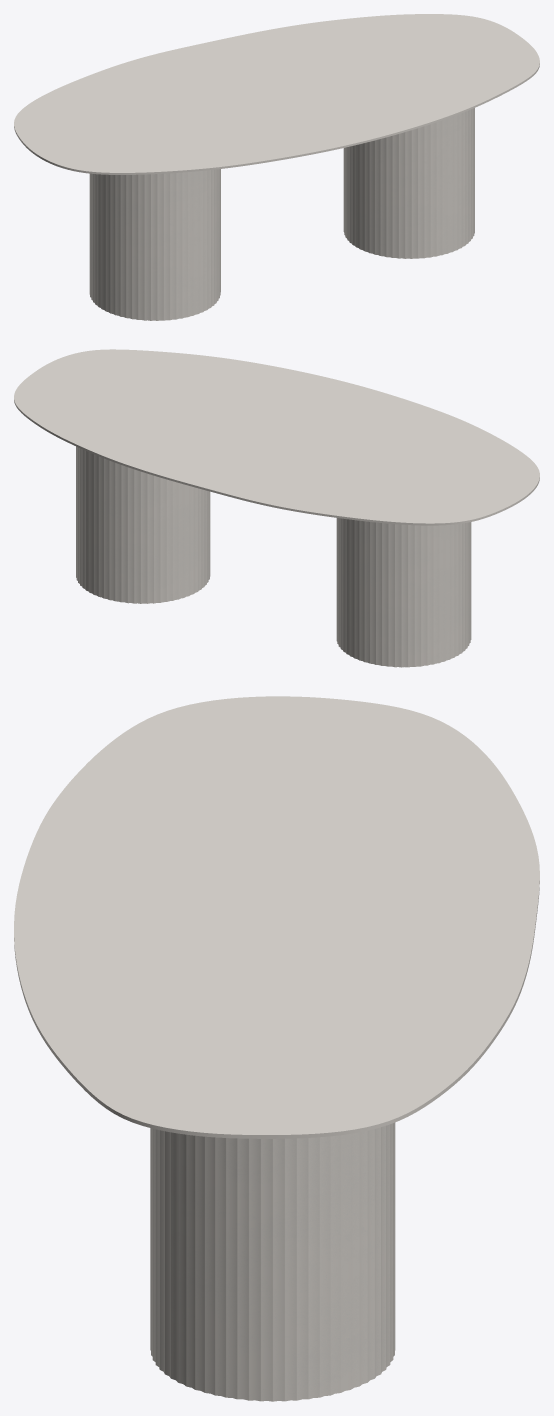
Rendered from pearlwhite_danish_facet_ripplesecond.glb.
3 views of the same model, one above another, from view 1: azimuth 30°, elevation 25°; view 2: azimuth 150°, elevation 25°; view 3: azimuth 270°, elevation 25° (orthographic). The views are drawn at different scales.
Visible parts, largest first — view 1: facet_danish, ripplesecond; view 2: facet_danish, ripplesecond; view 3: facet_danish, ripplesecond.
Boxes of the visible parts, bbox=[...] form: facet_danish: bbox=[14, 14, 539, 174]; ripplesecond: bbox=[89, 108, 474, 320]; facet_danish: bbox=[14, 349, 539, 525]; ripplesecond: bbox=[76, 446, 471, 667]; facet_danish: bbox=[14, 696, 539, 1138]; ripplesecond: bbox=[150, 1122, 395, 1401].
Size of the model in its own units: 7.5 by 2.51 by 3.8.
1 material, 1 textured.
